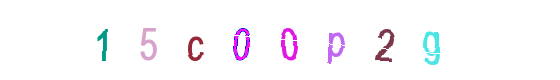0: (228, 0, 308, 80), (239, 0, 319, 80)
1: (64, 0, 144, 80)
2: (284, 0, 364, 80)
5: (166, 0, 246, 80)
C: (201, 0, 281, 80)
G: (384, 0, 464, 80)
P: (266, 0, 346, 80)
